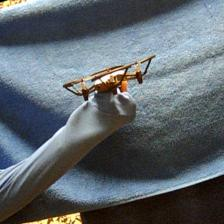drone: (61, 54, 158, 103)
